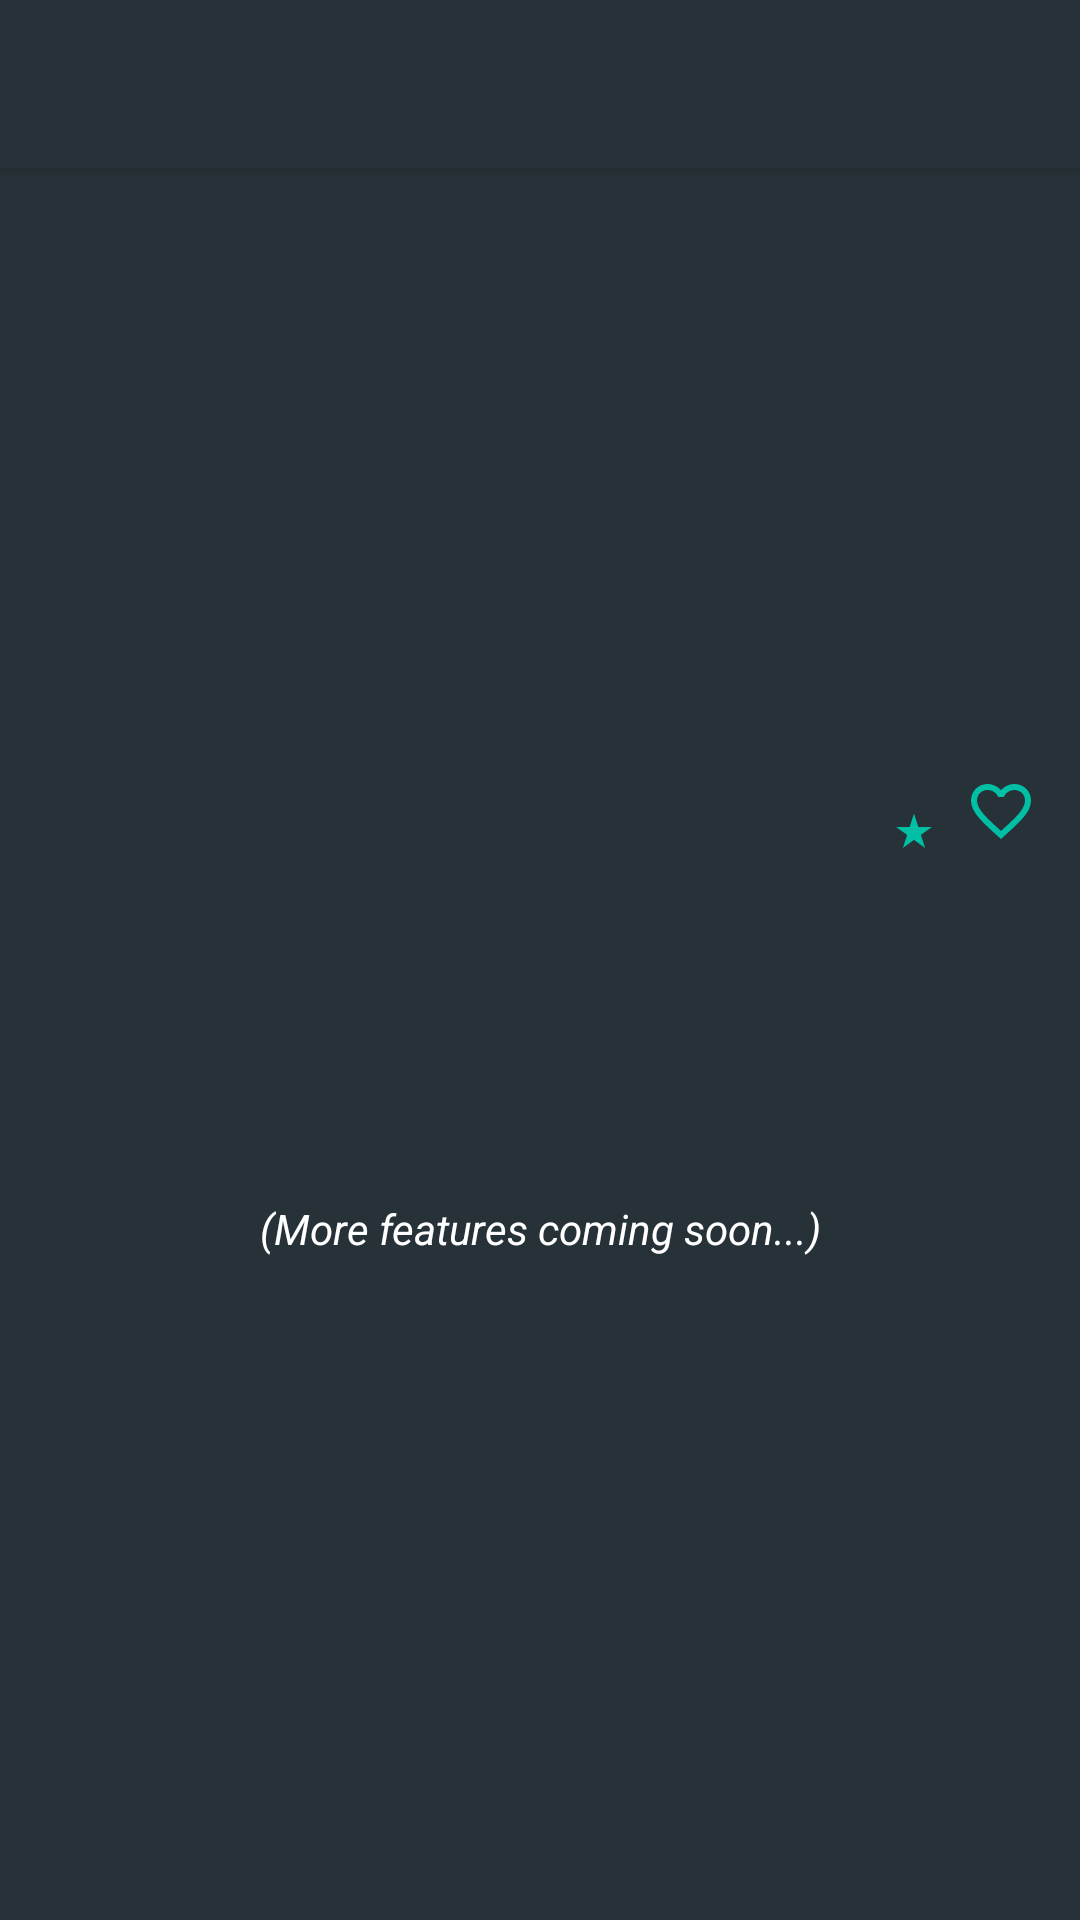

Icons on this 1080*1920 Android screen, each with the point to tap as [x,y]:
details favourite border: [1001,811]
